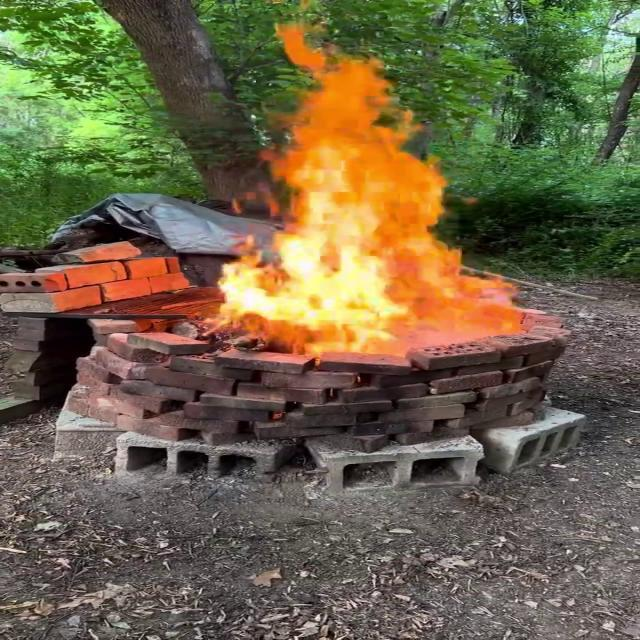Fire: (210, 27, 536, 360)
